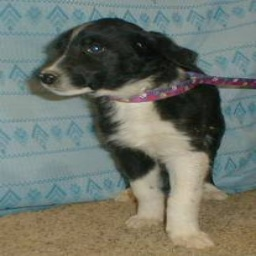dog: (35, 11, 234, 256)
